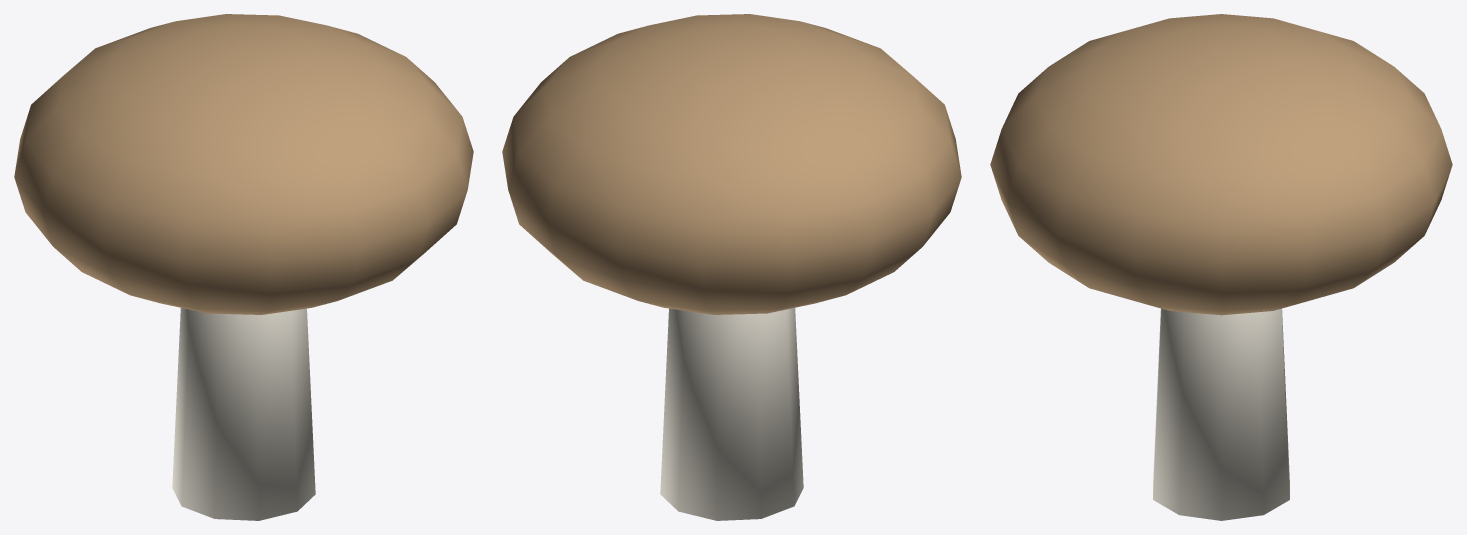
Rendered from SM_Item_mushroom.gltf.
The picture shows the model from 3 angles, left to right: view 1: azimuth 30°, elevation 25°; view 2: azimuth 150°, elevation 25°; view 3: azimuth 270°, elevation 25°; orthographic projection.
Parts seen in each view (by area): view 1: SM_Item_mushroom; view 2: SM_Item_mushroom; view 3: SM_Item_mushroom.
Boxes of the visible parts, x1,y1,x2,y2 form: SM_Item_mushroom: (14,14,473,520); SM_Item_mushroom: (502,14,961,520); SM_Item_mushroom: (990,14,1452,520).
Bounding box in the file's own units: 0.09 × 0.0948 × 0.09.
